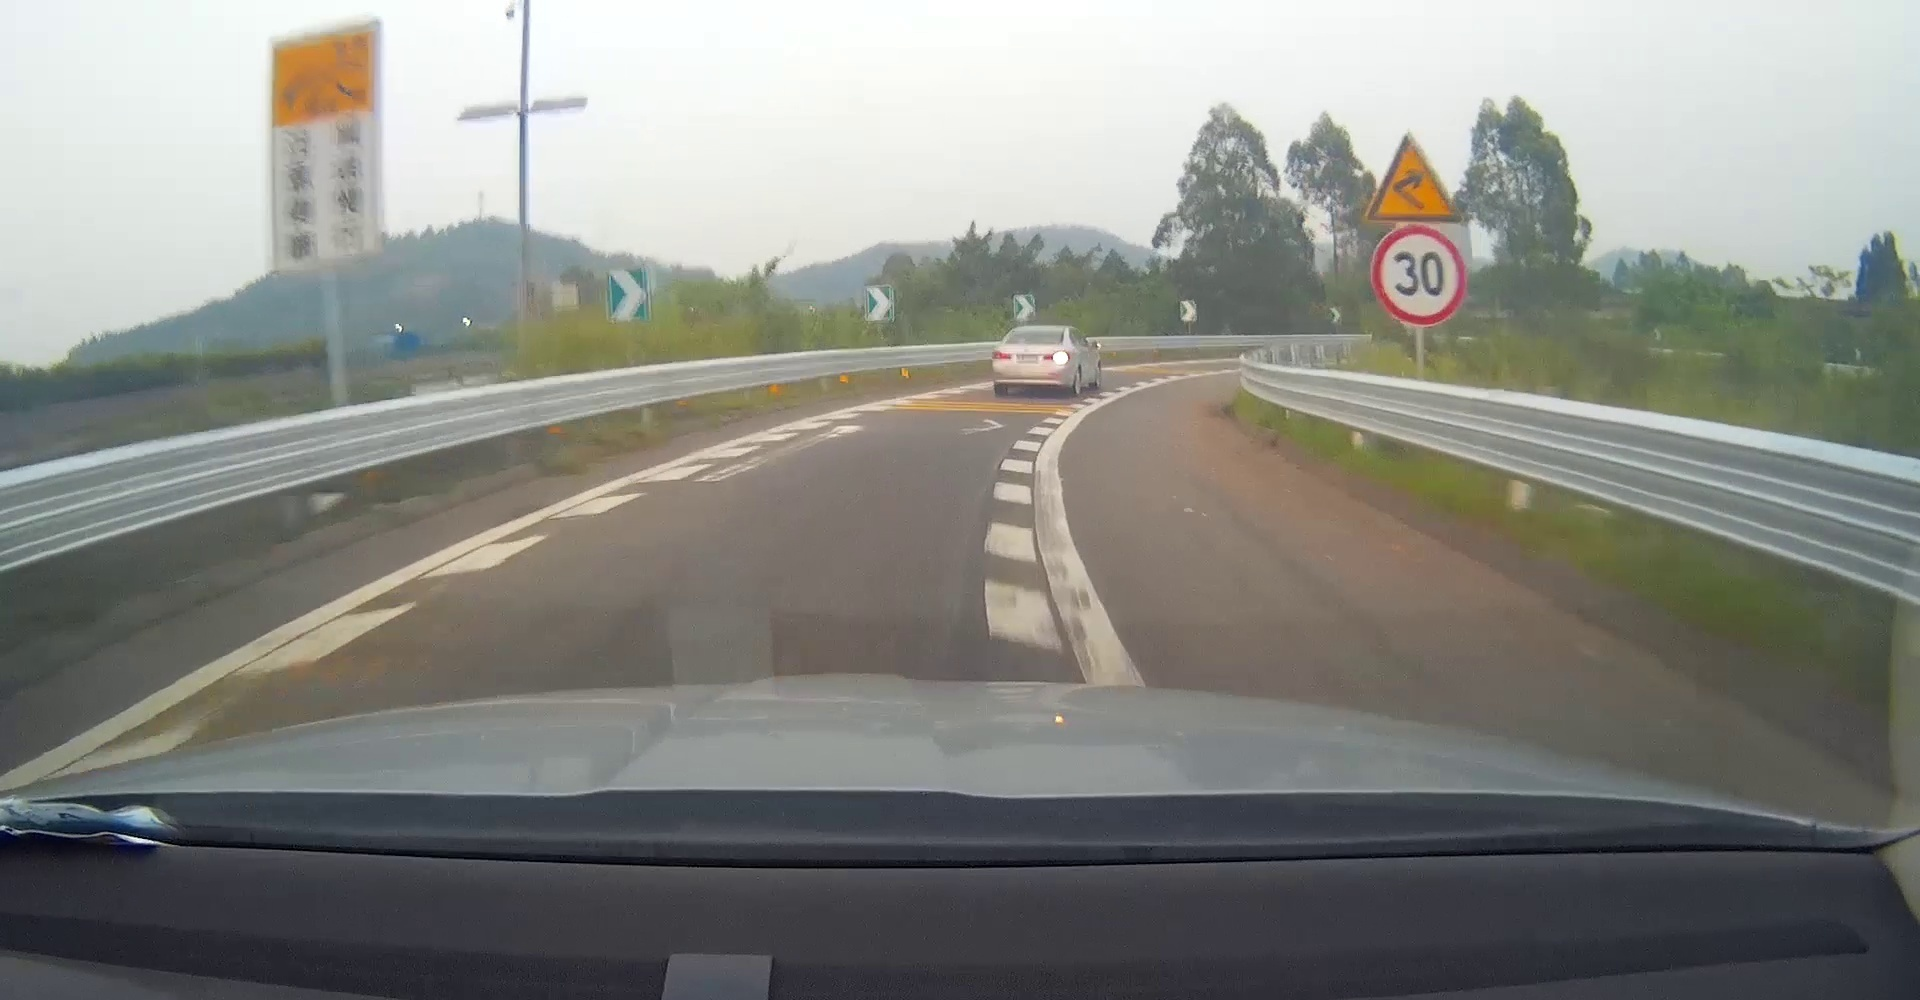L_light: (990, 350, 1012, 360)
R_light: (1044, 352, 1070, 360)
T_light: (1032, 327, 1046, 332)
day-right: (990, 325, 1070, 398)
